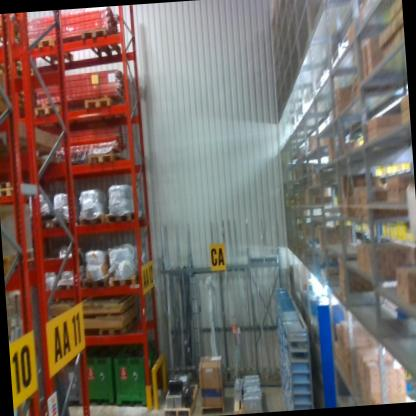pallet: (79, 23, 134, 68), (156, 376, 201, 416), (35, 31, 77, 72), (0, 14, 32, 50), (98, 321, 143, 346), (87, 146, 130, 170), (82, 90, 123, 115), (0, 50, 35, 79), (229, 389, 267, 415), (33, 99, 72, 124), (103, 205, 141, 228), (107, 272, 144, 290), (9, 247, 38, 269), (199, 397, 229, 416), (50, 213, 77, 234), (79, 273, 108, 292), (26, 217, 52, 238), (78, 211, 105, 228), (0, 183, 20, 201)
